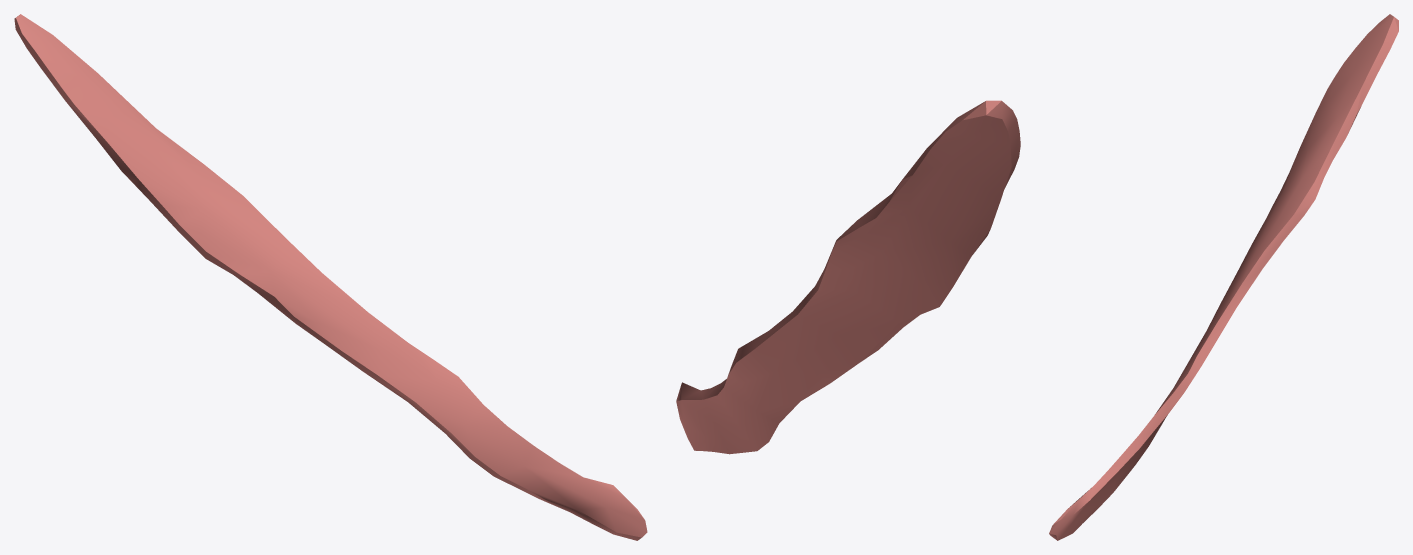
Rendered from fma65064_mm1409m.glb.
The picture shows the model from 3 angles, left to right: view 1: azimuth 30°, elevation 25°; view 2: azimuth 150°, elevation 25°; view 3: azimuth 270°, elevation 25°; orthographic projection. The views are drawn at different scales.
Parts seen in each view (by area): view 1: FMA65064_MM1409M; view 2: FMA65064_MM1409M; view 3: FMA65064_MM1409M.
Part boxes in pixels (x1,y1,x2,y2): FMA65064_MM1409M: (14,14,647,540); FMA65064_MM1409M: (676,100,1020,454); FMA65064_MM1409M: (1049,14,1398,540).
Bounding box in the file's own units: 0.0351 × 0.0378 × 0.0325.
